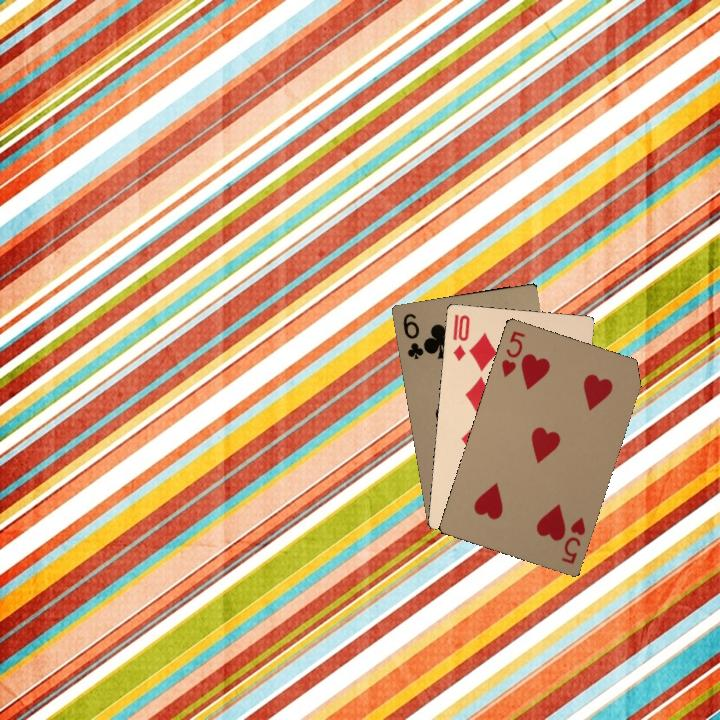10d: (449, 310, 472, 364)
5h: (557, 513, 588, 567), (497, 327, 528, 380)
6c: (399, 309, 427, 362)
